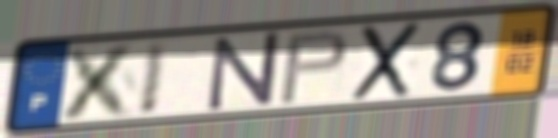8: (428, 19, 487, 94)
I: (135, 38, 173, 119)
N: (206, 29, 283, 114)
P: (276, 27, 352, 107)
X: (55, 40, 144, 122), (347, 19, 426, 105)
